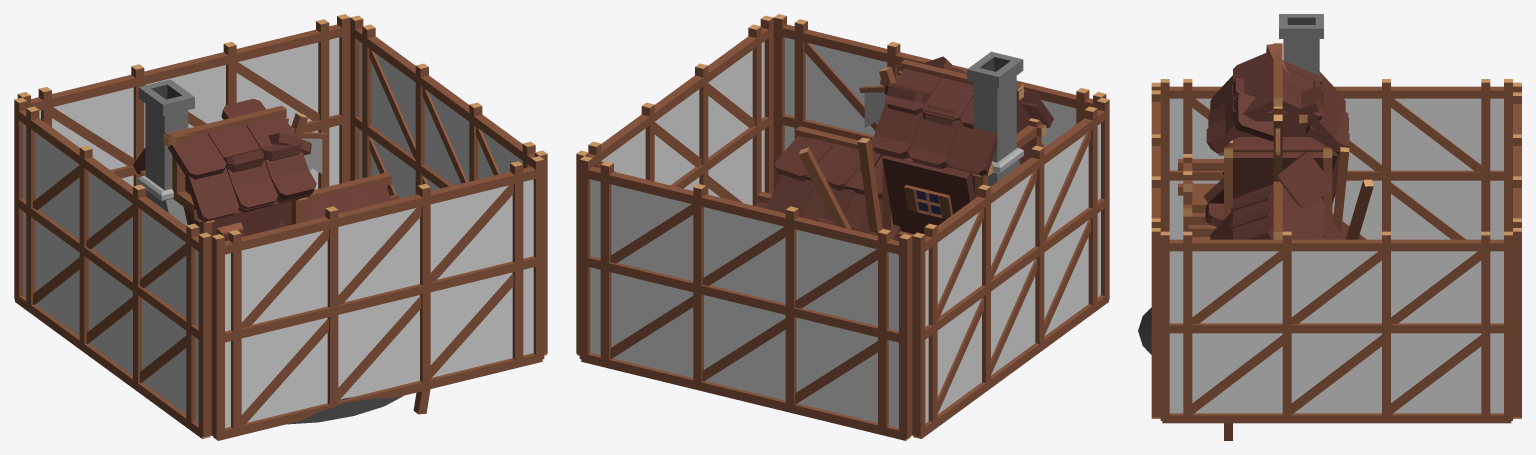
Rendered from Sawmill.fbx.
3 views of the same model, side by side, from view 1: azimuth 30°, elevation 25°; view 2: azimuth 150°, elevation 25°; view 3: azimuth 270°, elevation 25° (orthographic). The views are drawn at different scales.
Visible parts, largest first — view 1: Scaffold, Roof, Destruction_phase_2, First_Floor, Carcass, Second_Floor, Destruction_phase_1, Ash, Flag_2; view 2: Scaffold, Destruction_phase_2, Roof, First_Floor, Carcass, Destruction_phase_3, Destruction_phase_1, Flag_2, Second_Floor; view 3: Scaffold, Destruction_phase_2, Roof, Carcass, First_Floor, Destruction_phase_3, Destruction_phase_1, Ash, Second_Floor.
Part boxes in pixels (left/top/right/bottom): Scaffold: left=14, top=14, right=547, bottom=440; Roof: left=133, top=114, right=371, bottom=221; Destruction_phase_2: left=169, top=113, right=391, bottom=224; First_Floor: left=137, top=79, right=194, bottom=225; Carcass: left=140, top=105, right=374, bottom=235; Second_Floor: left=183, top=176, right=291, bottom=240; Destruction_phase_1: left=164, top=99, right=309, bottom=172; Ash: left=287, top=395, right=403, bottom=424; Flag_2: left=302, top=138, right=322, bottom=173; Scaffold: left=576, top=14, right=1109, bottom=440; Destruction_phase_2: left=766, top=56, right=1024, bottom=235; Roof: left=783, top=68, right=1053, bottom=235; First_Floor: left=967, top=51, right=1023, bottom=186; Carcass: left=812, top=59, right=1046, bottom=240; Destruction_phase_3: left=756, top=147, right=900, bottom=240; Destruction_phase_1: left=876, top=67, right=1022, bottom=126; Flag_2: left=864, top=92, right=884, bottom=127; Second_Floor: left=908, top=101, right=1030, bottom=195; Scaffold: left=1151, top=79, right=1521, bottom=423; Destruction_phase_2: left=1206, top=44, right=1349, bottom=239; Roof: left=1210, top=52, right=1345, bottom=239; Carcass: left=1178, top=50, right=1337, bottom=239; First_Floor: left=1272, top=14, right=1323, bottom=239; Destruction_phase_3: left=1203, top=155, right=1373, bottom=440; Destruction_phase_1: left=1232, top=43, right=1323, bottom=122; Ash: left=1138, top=307, right=1151, bottom=354; Second_Floor: left=1223, top=119, right=1309, bottom=174.
Bounding box in the file's own units: 4.1 × 3.92 × 4.25.
